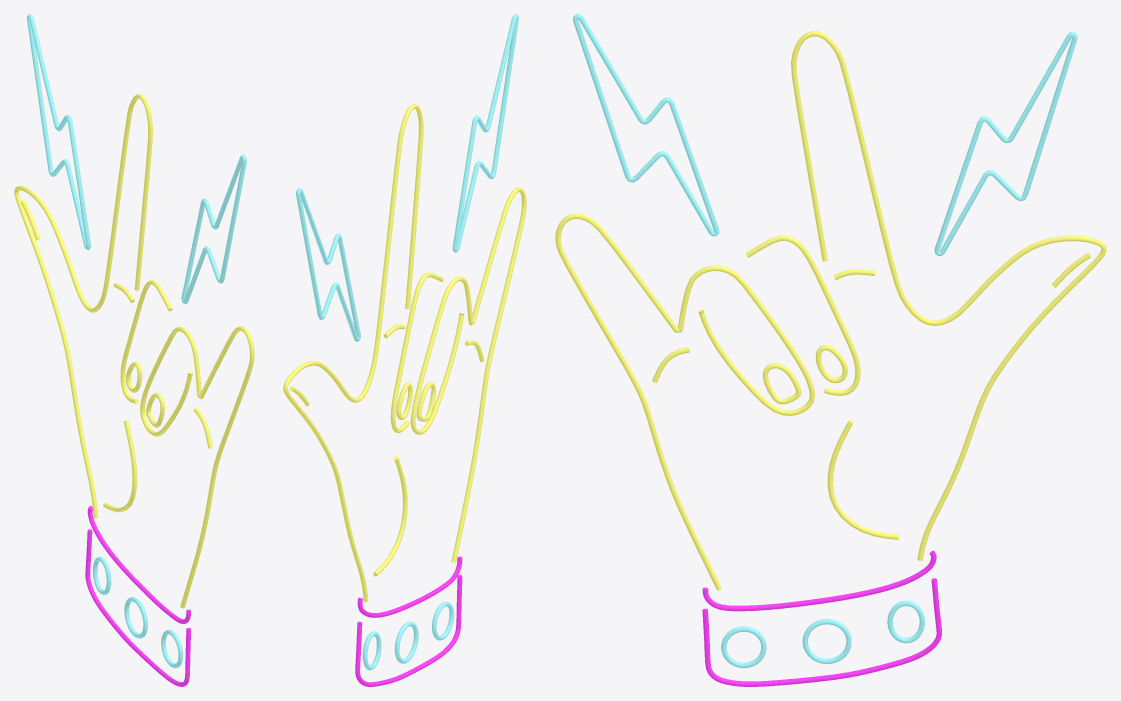
File: neon sign.glb
3 views of the same model, side by side, from view 1: azimuth 30°, elevation 25°; view 2: azimuth 150°, elevation 25°; view 3: azimuth 270°, elevation 25° (orthographic). The views are drawn at different scales.
Parts seen in each view (by area): view 1: Vert_Yellow_0; view 2: Vert_Yellow_0; view 3: Vert_Yellow_0.
Boxes of the visible parts, left/top/right/bottom form: Vert_Yellow_0: left=14, top=14, right=254, bottom=686; Vert_Yellow_0: left=283, top=14, right=526, bottom=686; Vert_Yellow_0: left=555, top=14, right=1106, bottom=686.
Bounding box in the file's own units: 0.0199 × 2.68 × 1.99.
1 material, 1 textured.
